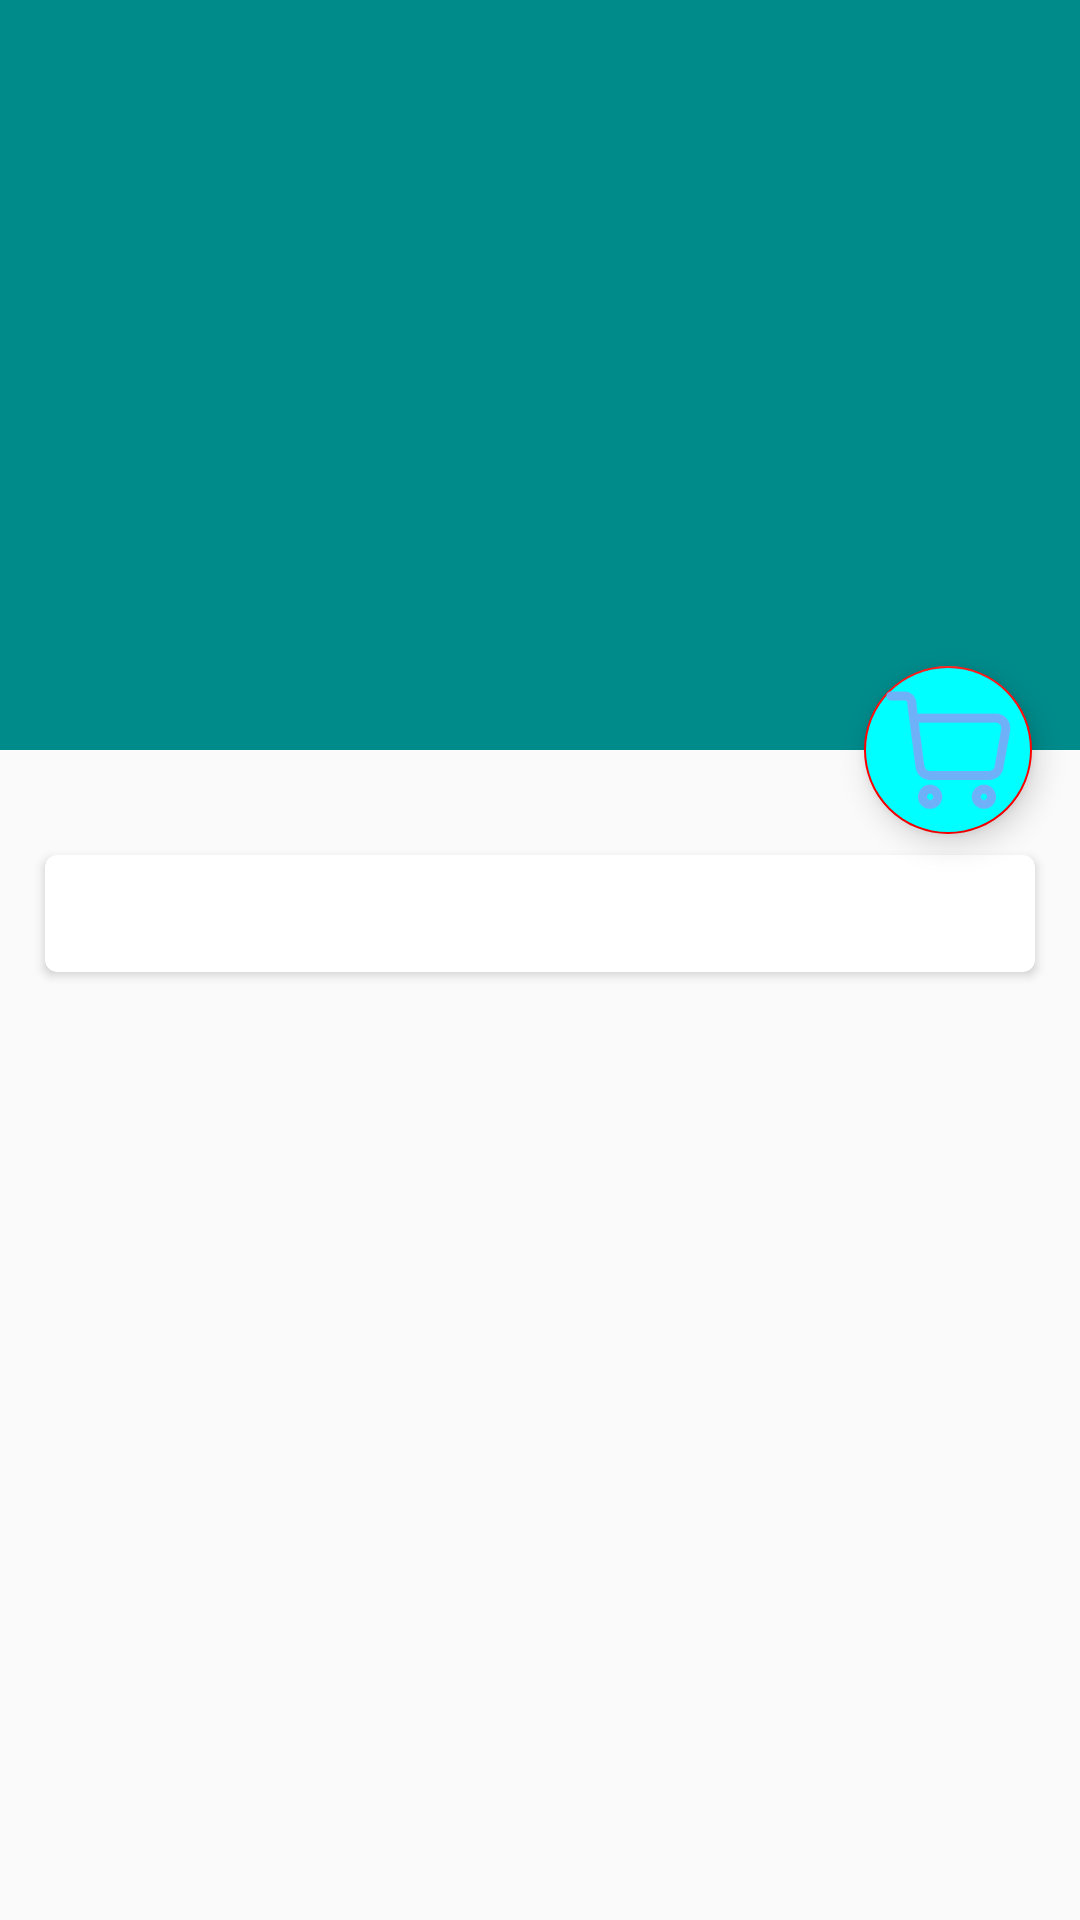

Where to tap for icons on this 1080 × 1920 app screen, as [x,y]:
cart: [948,750]
